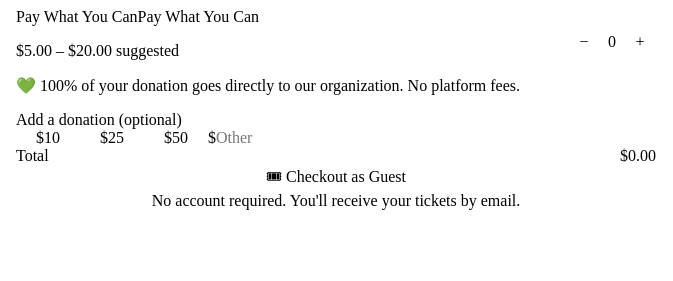
Test: TicketSelector › sliding scale › shows price input when a sliding-scale ticket is selected
Click the button named "Increase quantity": click(640, 42) [624,26,656,58]
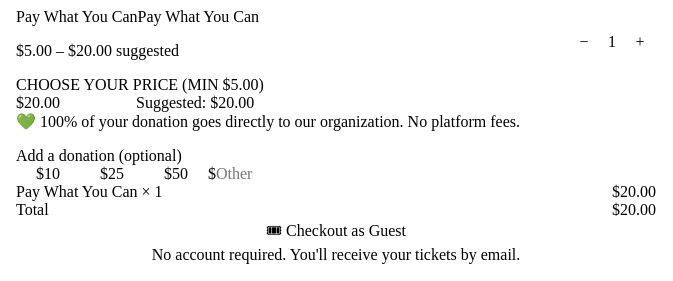
Now the number field labelled "Choose your price (min $5.00)" is shown, box [24,94,136,112]
